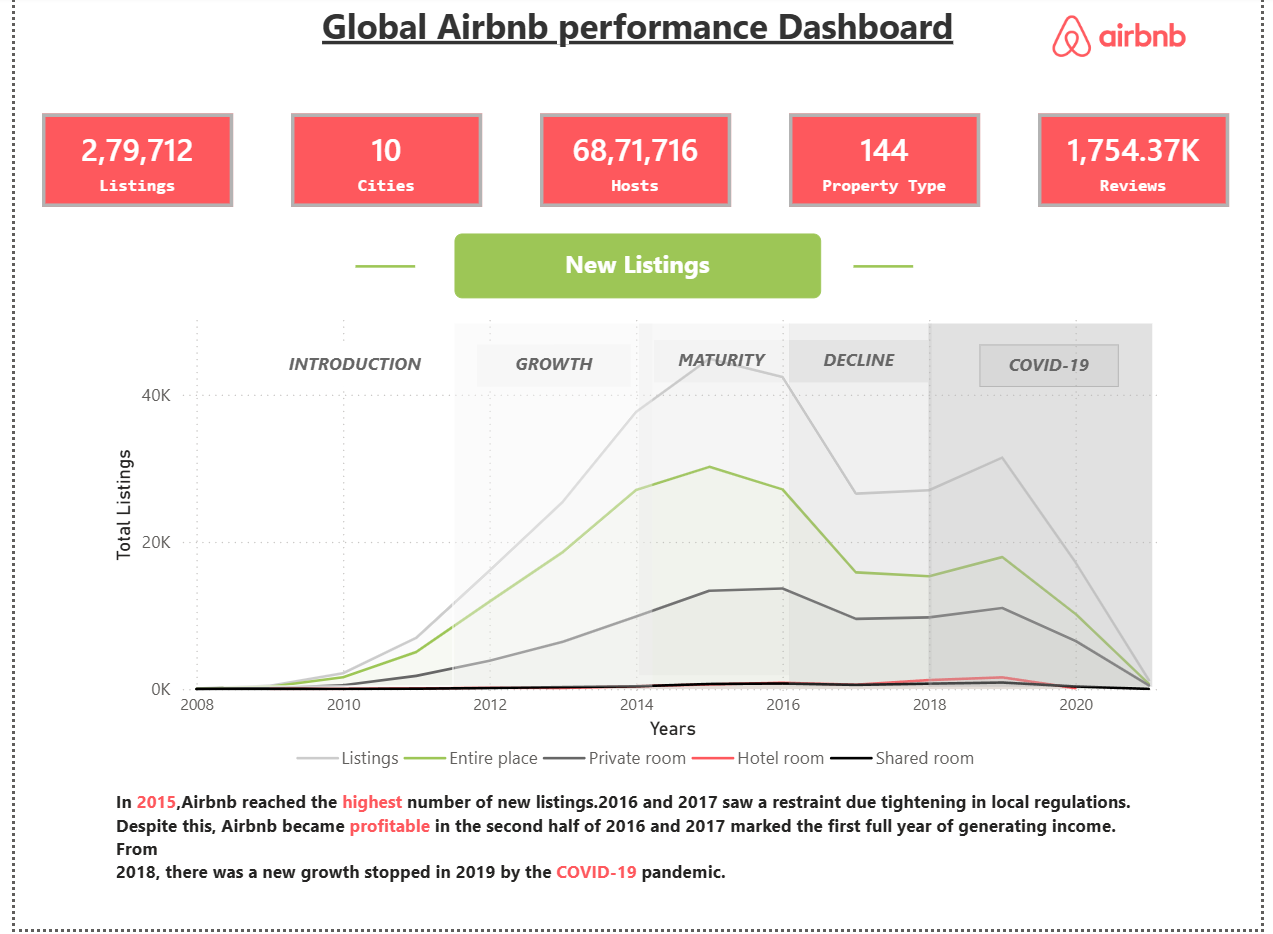

Layout of this report page (visuals, bound fields, positions):
{"tool":"powerbi","page":{"name":"Overview","canvas":[960,720],"ordinal":0},"visuals":[{"type":"textbox","box":[187.3,0,585.4,62.4],"z":0},{"type":"image","box":[772.4,9.9,157.3,42.5],"z":1000},{"type":"card","fields":{"Values":["CountNonNull(Listings.listing_id)"]},"box":[21,91,147,72],"z":2000},{"type":"card","fields":{"Values":["Count(Listings.city)"]},"box":[212.9,91,147,72],"z":3000},{"type":"card","fields":{"Values":["Sum(Listings.host_total_listings_count)"]},"box":[404.8,91,147,72],"z":4000},{"type":"card","fields":{"Values":["Count(Listings.property_type)"]},"box":[596.8,91,147,72],"z":5000},{"type":"card","fields":{"Values":["Sum(Listings.review_scores_value)"]},"box":[788.7,91,147,72],"z":6000},{"type":"lineChart","fields":{"Y":["CountNonNull(Listings.listing_id)","Listings.Entire place","Listings.Private room","Listings.Hotel room","Listings.Shared room"],"Category":["Listings.host_since.Variation.Date Hierarchy.Year"]},"box":[70,237.5,821.2,370],"z":7000},{"type":"textbox","box":[338.8,183.8,282.5,50],"z":8000},{"type":"shape","box":[262.5,163.8,46.2,90],"z":9000},{"type":"shape","box":[646.2,163.8,46.2,90],"z":10000},{"type":"shape","box":[161.2,253.8,177.5,280],"z":11000},{"type":"shape","box":[338.8,253.8,152.5,280],"z":12000},{"type":"shape","box":[481.2,253.8,116.2,271.2],"z":13000},{"type":"shape","box":[596.2,253.8,110,280],"z":14000},{"type":"textbox","box":[191.2,270,142.5,32.5],"z":15000},{"type":"textbox","box":[492.5,266.2,103.8,32.5],"z":16000},{"type":"textbox","box":[596.2,266.2,107.5,32.5],"z":17000},{"type":"textbox","box":[356.2,270,118.8,32.5],"z":18000},{"type":"shape","box":[703.8,253.8,172.5,280],"z":19000},{"type":"textbox","box":[743.8,270,107.5,32.5],"z":20000},{"type":"textbox","box":[72.5,607.5,815,95],"z":21000}]}

Visuals, with their boxes in screenshot pixels (x1, y1, x2, y2), scaled from the page's 960x720 canvas onto the 1273x934 screenshot:
textbox: box(248, 0, 1025, 81)
image: box(1024, 13, 1233, 68)
card - CountNonNull(Listings.listing_id): box(28, 118, 223, 211)
card - Count(Listings.city): box(282, 118, 477, 211)
card - Sum(Listings.host_total_listings_count): box(537, 118, 732, 211)
card - Count(Listings.property_type): box(791, 118, 986, 211)
card - Sum(Listings.review_scores_value): box(1046, 118, 1241, 211)
lineChart - CountNonNull(Listings.listing_id) x Listings.Entire place: box(93, 308, 1182, 788)
textbox: box(449, 238, 824, 303)
shape: box(348, 212, 409, 329)
shape: box(857, 212, 918, 329)
shape: box(214, 329, 449, 692)
shape: box(449, 329, 651, 692)
shape: box(638, 329, 792, 681)
shape: box(791, 329, 936, 692)
textbox: box(254, 350, 443, 392)
textbox: box(653, 345, 791, 387)
textbox: box(791, 345, 933, 387)
textbox: box(472, 350, 630, 392)
shape: box(933, 329, 1162, 692)
textbox: box(986, 350, 1129, 392)
textbox: box(96, 788, 1177, 911)
